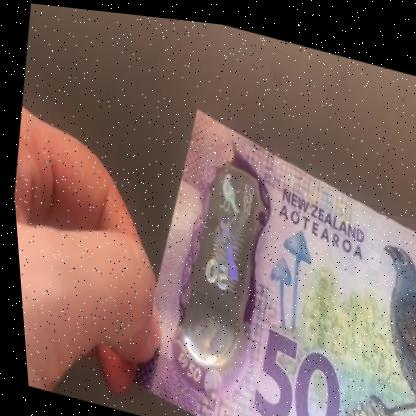50B: (167, 155, 264, 358)
